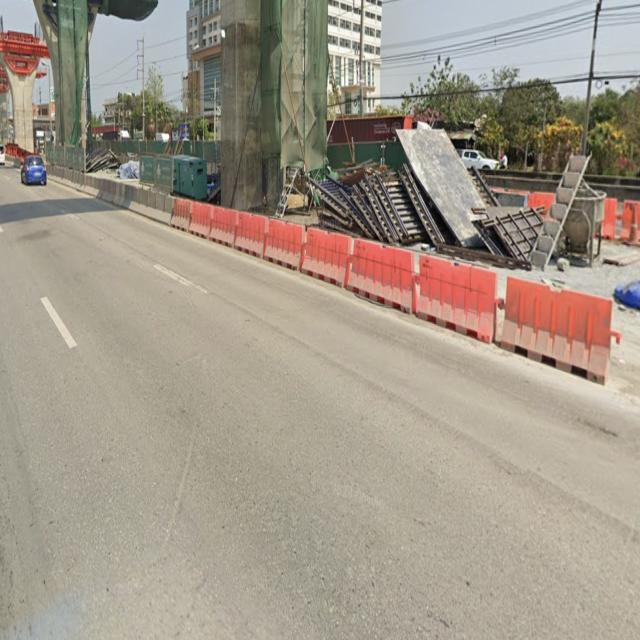fallen_object: (495, 256, 633, 394), (392, 230, 507, 353), (43, 147, 194, 236), (299, 219, 427, 314), (180, 183, 309, 273)
